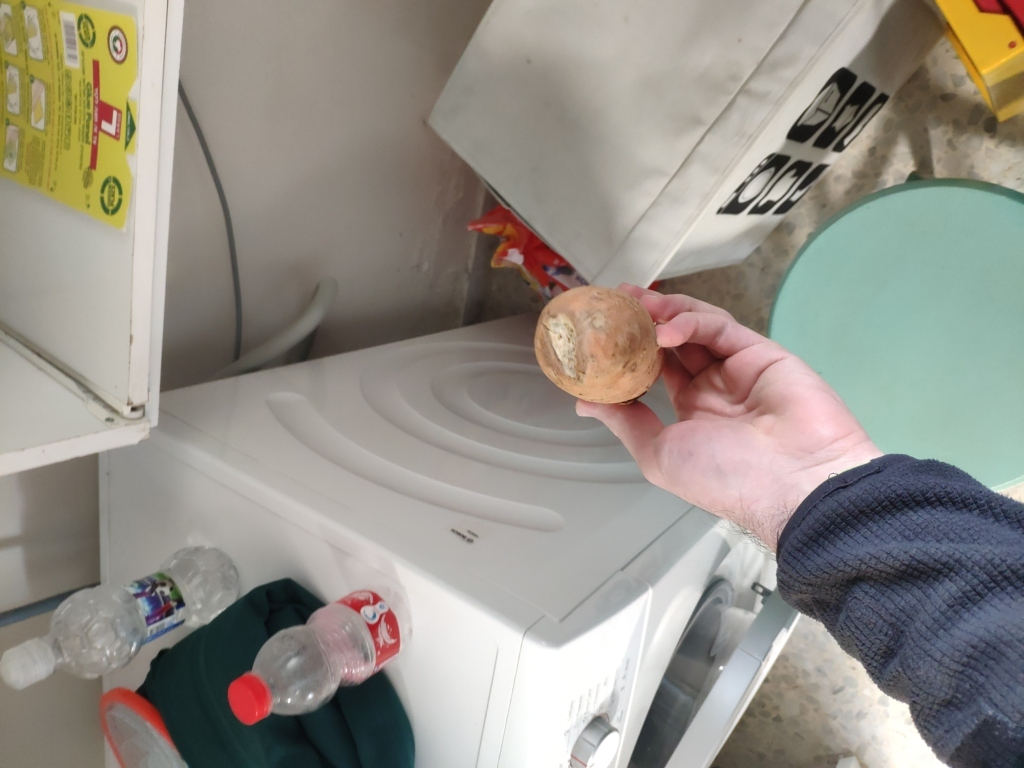Sweet Potato: (537, 295, 673, 402)
